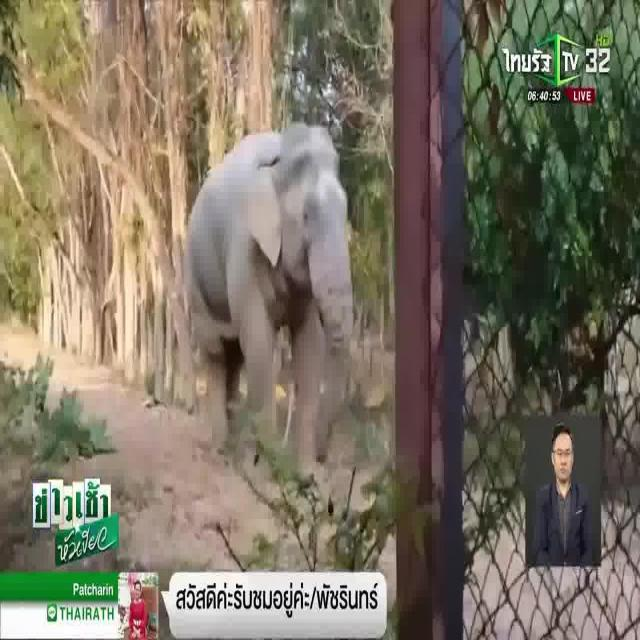Elephant: (183, 117, 361, 455)
